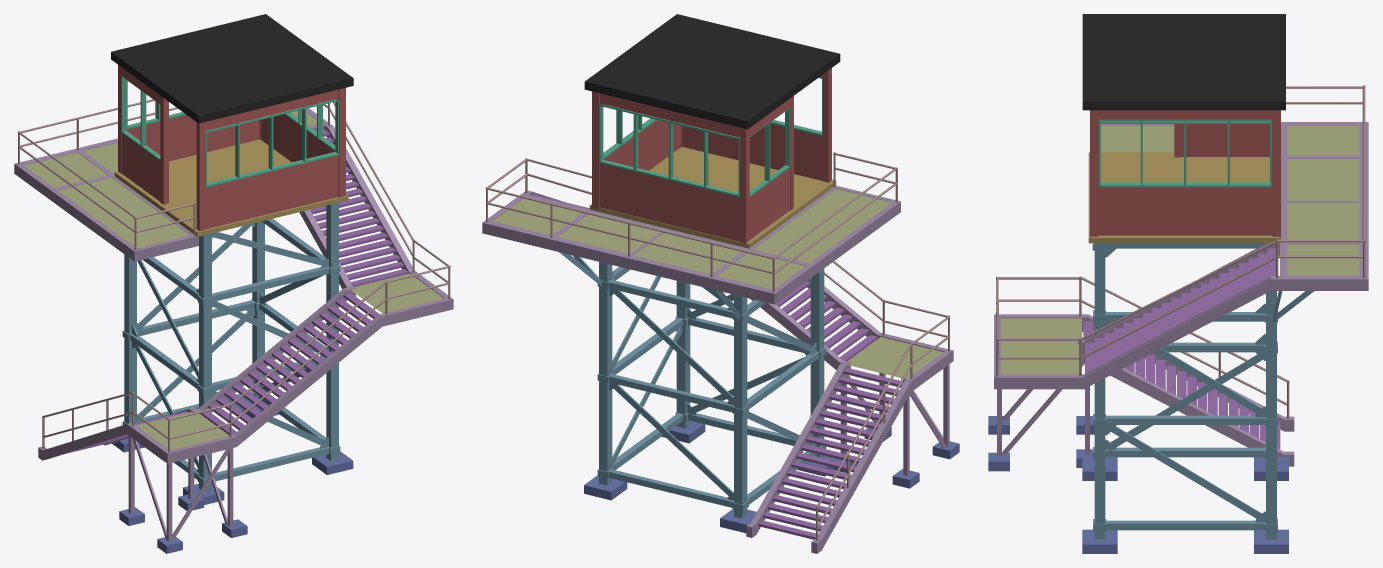
Rendered from Observatory_big_middle.fbx.
3 views of the same model, side by side, from view 1: azimuth 30°, elevation 25°; view 2: azimuth 150°, elevation 25°; view 3: azimuth 270°, elevation 25° (orthographic). The views are drawn at different scales.
Parts seen in each view (by area): view 1: Observatory_middle; view 2: Observatory_middle; view 3: Observatory_middle.
Part boxes in pixels (box(x1,y1,x2,y2)): Observatory_middle: box(14, 14, 453, 553); Observatory_middle: box(482, 14, 959, 553); Observatory_middle: box(988, 14, 1368, 553).
Bounding box in the file's own units: 535 × 691 × 525.
